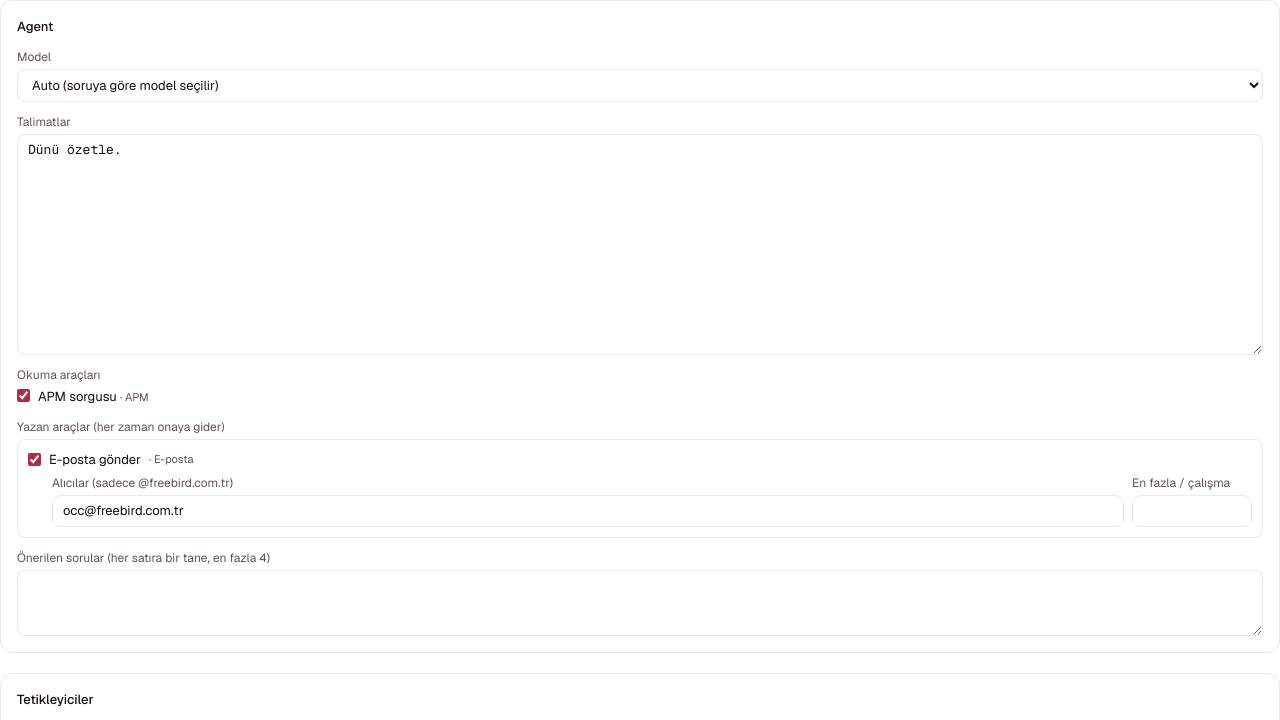
it: yapılandırma › vazgeç değişiklikleri geri alır
Replace the text in the text box labelled "Talimatlar" with "Yeni talimat". click: (640, 244)
box: [17,134,1263,355]
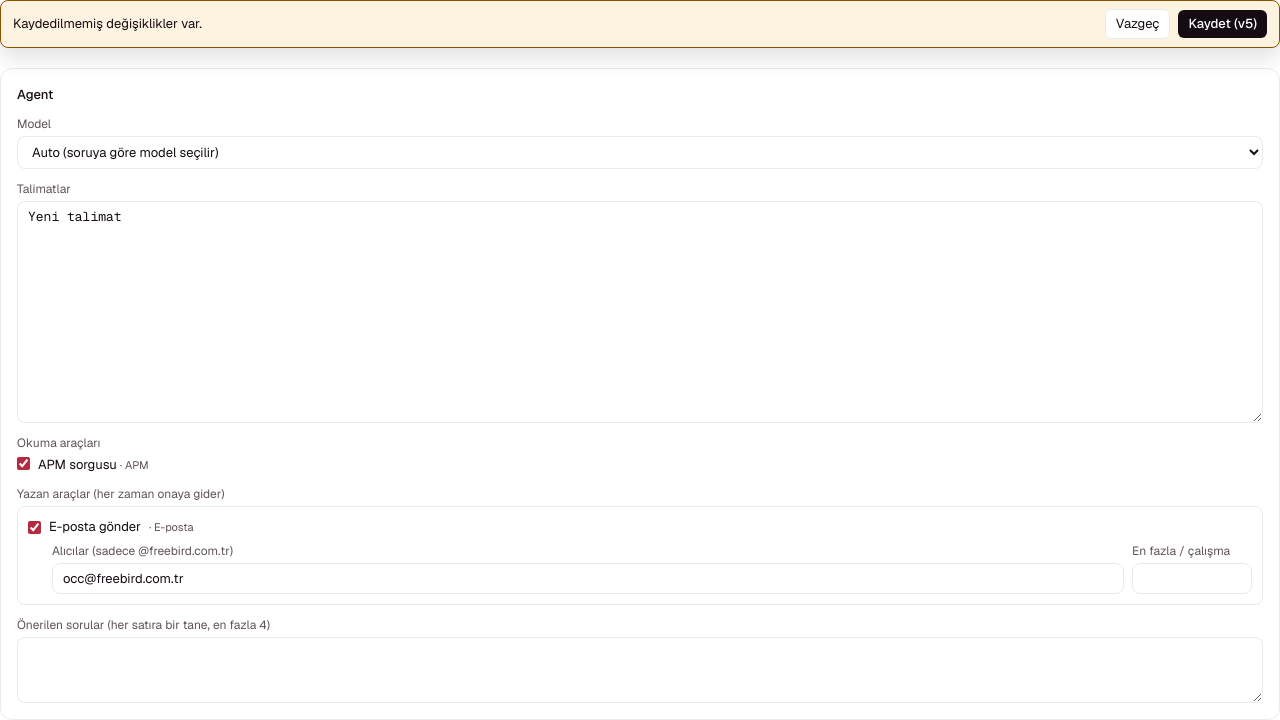
Click the button "Vazgeç". click: click(1138, 24)
box: [1105,9,1170,38]
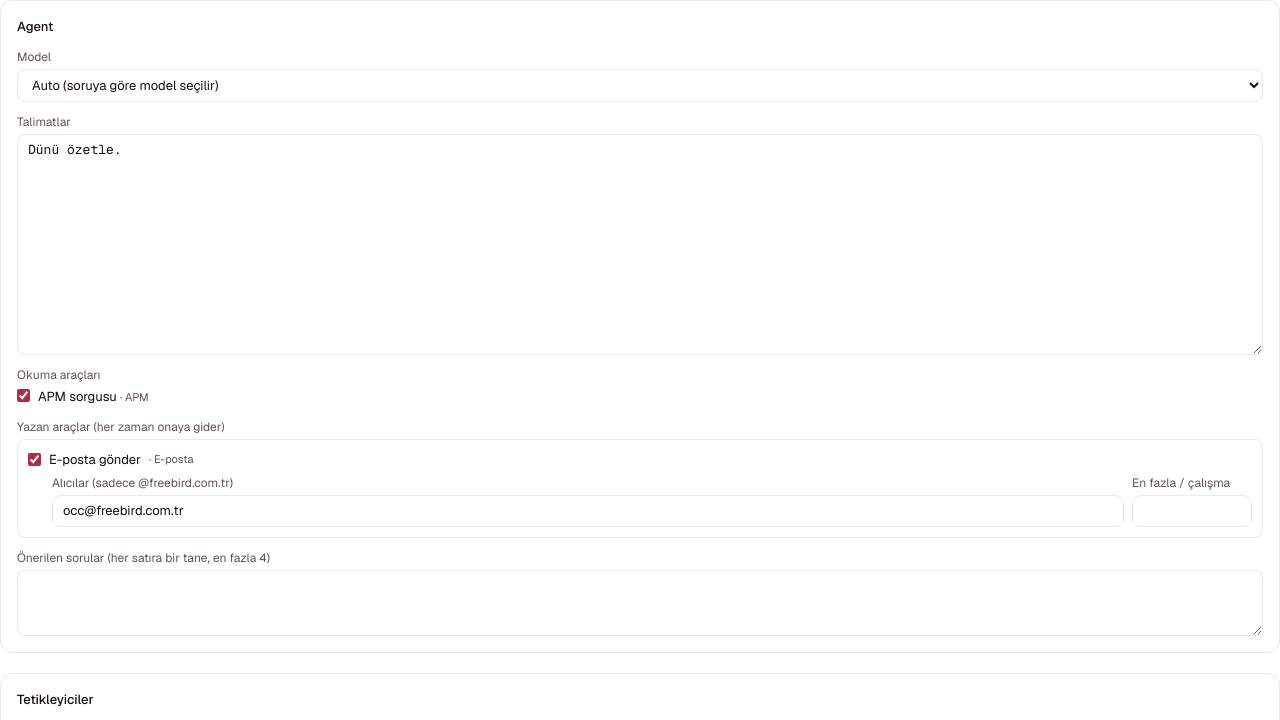
Expected: the text box labelled "Talimatlar" holds "Dünü özetle.", [17,134,1263,355]
Expected: the text "Kaydedilmemiş değişiklikler var." is gone
